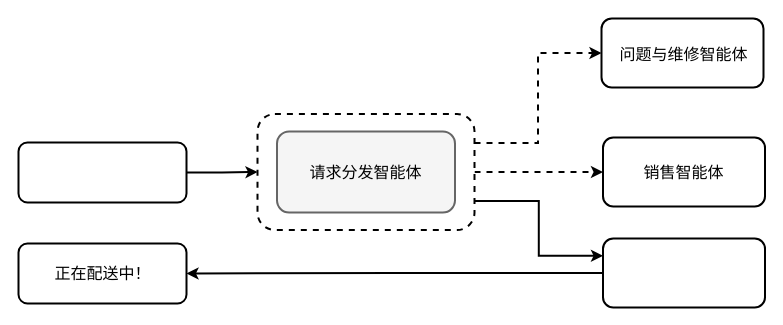
Some shapes in this 783 by 325 pixel diagram are drawn without their labels. Each missing label, with the centre of its shape:
我的订单在哪里？: the point at 102,172
订单智能体: the point at 684,272
